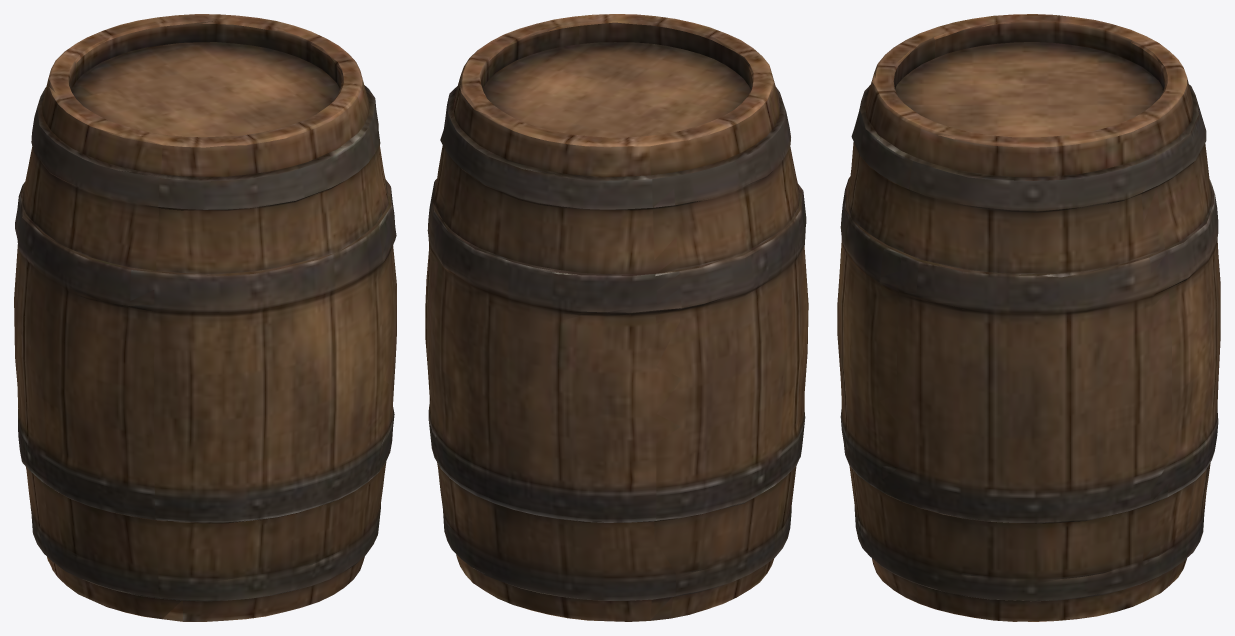
The model's file is street_barrel.glb.
3 renders of one model, left to right at view 1: azimuth 30°, elevation 25°; view 2: azimuth 150°, elevation 25°; view 3: azimuth 270°, elevation 25°, orthographic.
Visible parts, largest first — view 1: turn; view 2: turn; view 3: turn.
Boxes of the visible parts, box(x1,y1,x2,y2) form: turn: box(14, 14, 396, 621); turn: box(425, 14, 808, 621); turn: box(837, 14, 1220, 621).
Size of the model in its own units: 0.6561 by 0.9 by 0.6542.
1 material, 1 textured.
